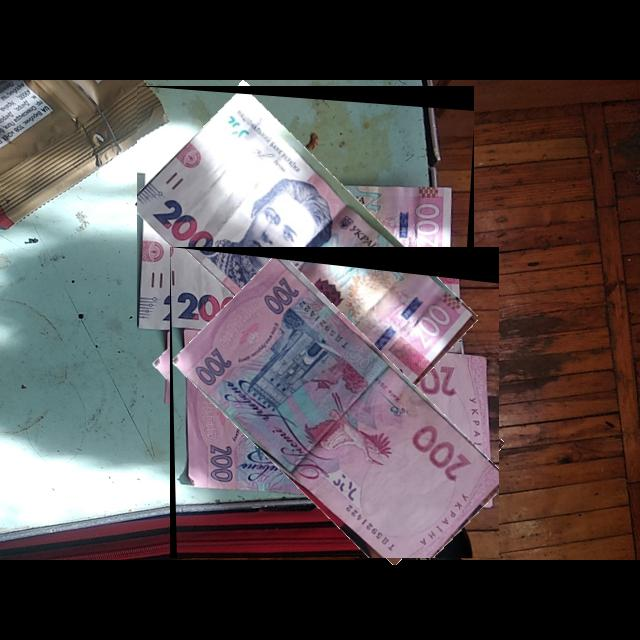200uah: (137, 93, 466, 404), (172, 257, 500, 559)
